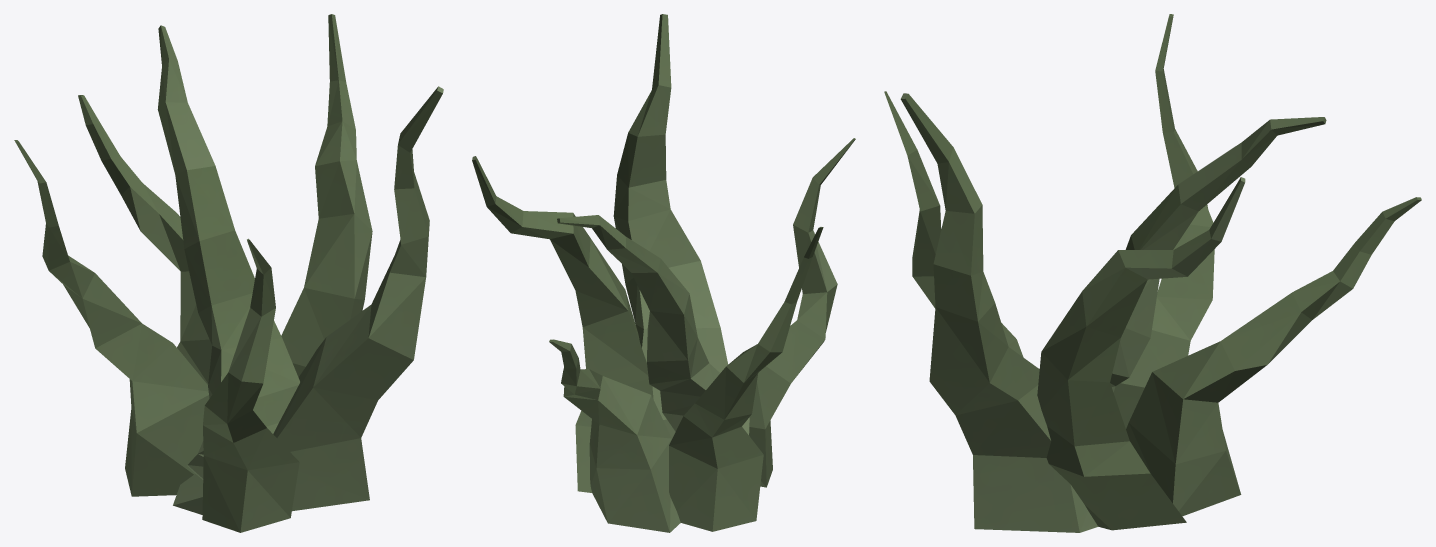
The model's file is grass_green_2.obj.
3 renders of one model, left to right at view 1: azimuth 30°, elevation 25°; view 2: azimuth 150°, elevation 25°; view 3: azimuth 270°, elevation 25°, orthographic. The views are drawn at different scales.
Visible parts, largest first — view 1: grass_green_2_Mesh; view 2: grass_green_2_Mesh; view 3: grass_green_2_Mesh.
Boxes of the visible parts, bbox=[...] form: grass_green_2_Mesh: bbox=[14, 14, 443, 532]; grass_green_2_Mesh: bbox=[472, 14, 855, 532]; grass_green_2_Mesh: bbox=[884, 14, 1421, 532].
Size of the model in its own units: 0.1935 by 0.2279 by 0.2396.
